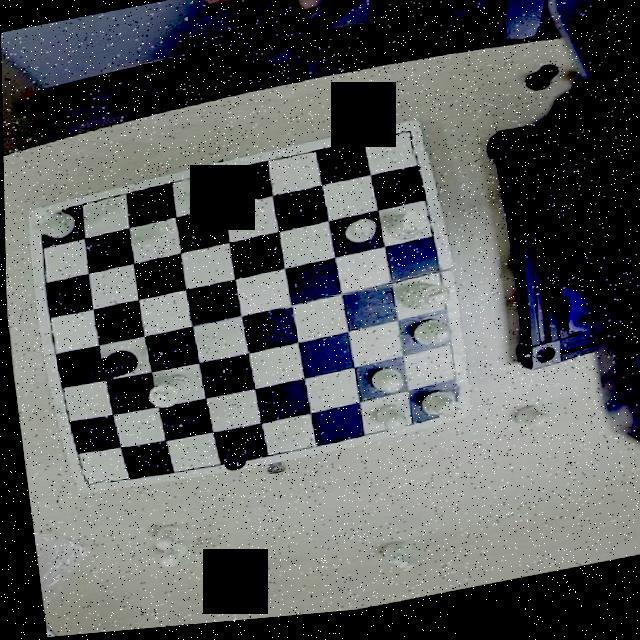chess-table-corners: (439, 390, 474, 427), (394, 128, 428, 165), (28, 202, 62, 238), (73, 464, 103, 494)
